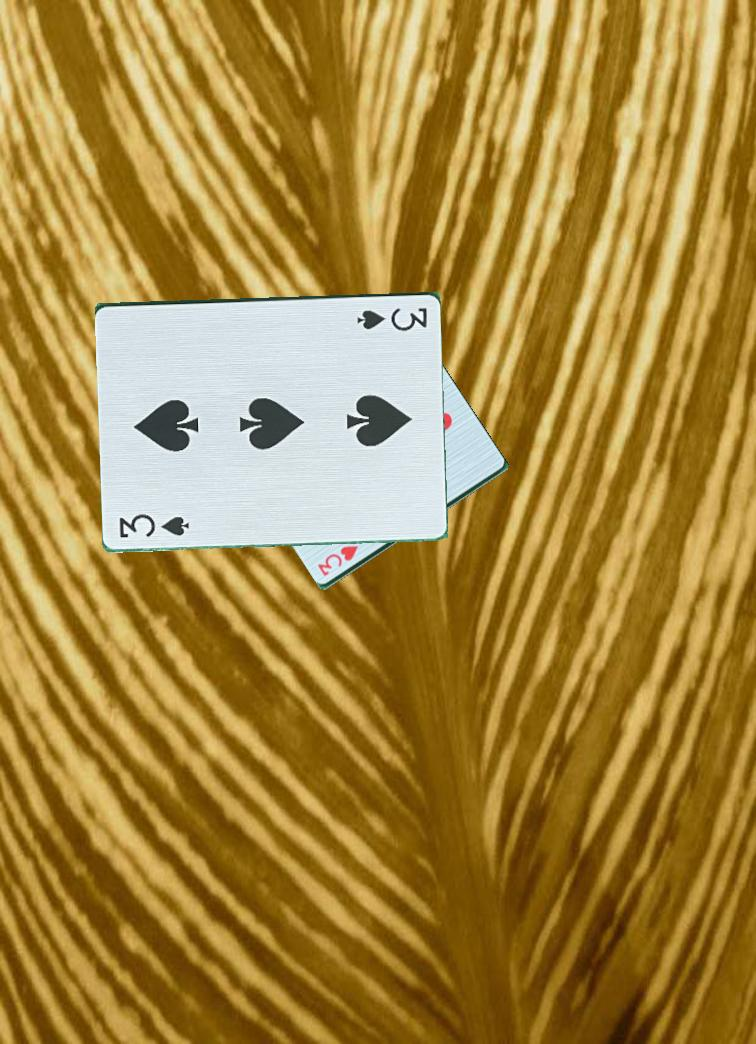3h: (314, 542, 361, 580)
3s: (347, 304, 430, 332), (115, 513, 192, 542)
